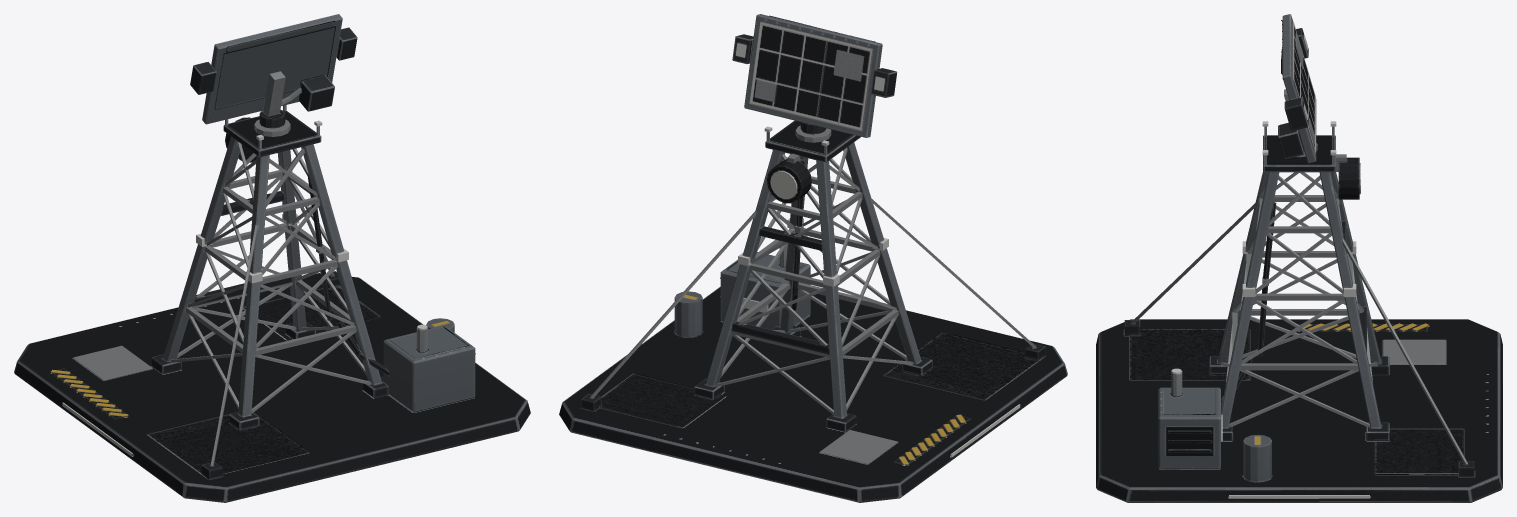
Rendered from chs_seekerspire.fbx.
3 renders of one model, left to right at view 1: azimuth 30°, elevation 25°; view 2: azimuth 150°, elevation 25°; view 3: azimuth 270°, elevation 25°, orthographic. The views are drawn at different scales.
Parts seen in each view (by area): view 1: base_bar, radar_bar, base_glow_running_bar; view 2: base_bar, radar_bar, radar_glow_running_bar, base_glow_running_bar; view 3: base_bar, radar_bar, base_glow_running_bar, radar_glow_running_bar.
Boxes of the visible parts, x1=… form: base_bar: x1=14, y1=105, x2=530, y2=502; radar_bar: x1=190, y1=14, x2=357, y2=128; base_glow_running_bar: x1=62, y1=120, x2=348, y2=456; base_bar: x1=559, y1=120, x2=1067, y2=502; radar_bar: x1=732, y1=14, x2=897, y2=137; radar_glow_running_bar: x1=736, y1=22, x2=884, y2=130; base_glow_running_bar: x1=738, y1=126, x2=1020, y2=457; base_bar: x1=1096, y1=126, x2=1502, y2=502; radar_bar: x1=1278, y1=14, x2=1316, y2=163; base_glow_running_bar: x1=1229, y1=121, x2=1369, y2=498; radar_glow_running_bar: x1=1293, y1=22, x2=1315, y2=152.
Bounding box in the file's own units: 1569 × 1777 × 1557.
2 materials, 2 textured.
